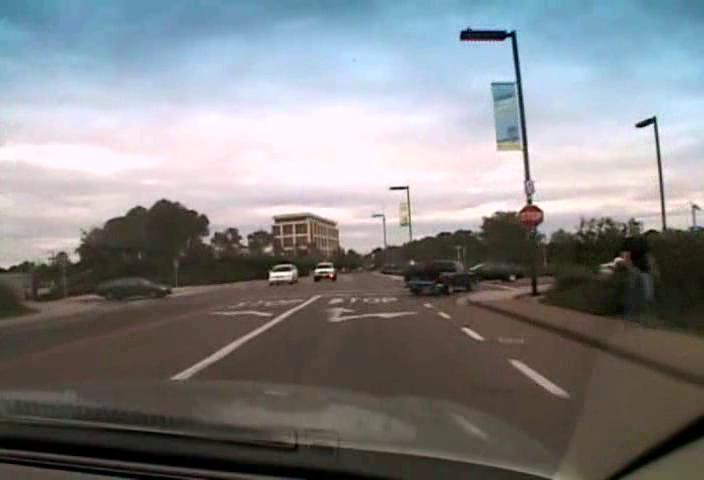stop: (517, 204, 544, 228)
